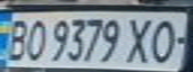3: (66, 15, 87, 63)
7: (84, 15, 106, 63)
9: (100, 15, 127, 63), (45, 16, 69, 62)
B: (0, 16, 33, 62)
O: (145, 15, 190, 65), (21, 16, 48, 62)
X: (121, 15, 160, 64)
